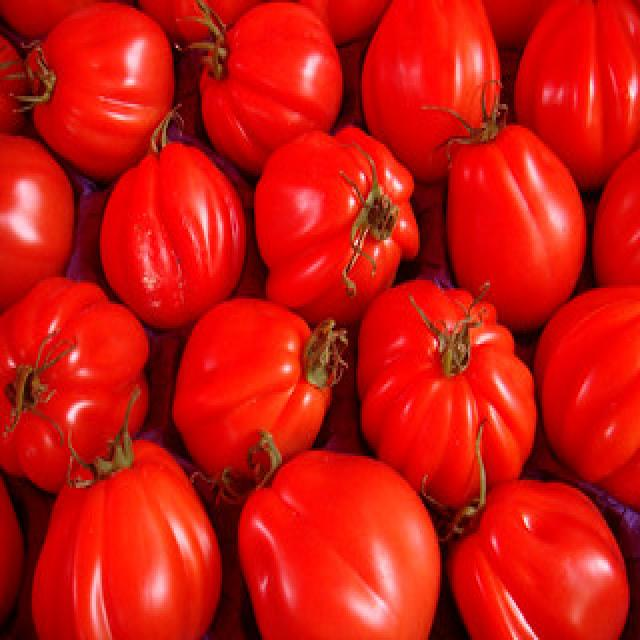Tomato: (356, 282, 542, 512), (0, 272, 151, 507), (244, 130, 421, 322), (171, 294, 344, 482), (94, 138, 245, 332), (446, 124, 588, 330)
